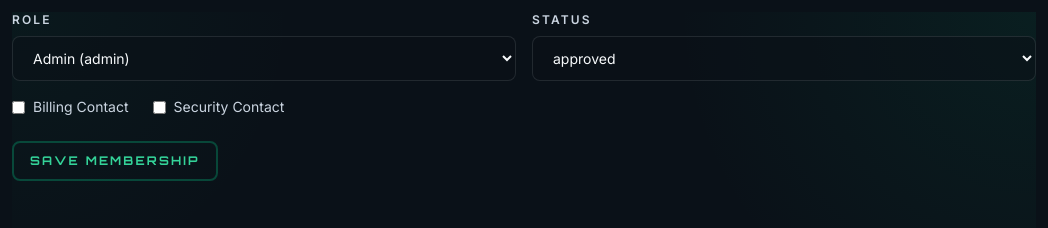
MembershipForm (USE-P2-010) › saves a non-destructive change without a dialog
What coordinates should you click on to do the following:
click the button "Save Membership"
I would click on:
 (115, 161)
Its box is [12,141,218,181].
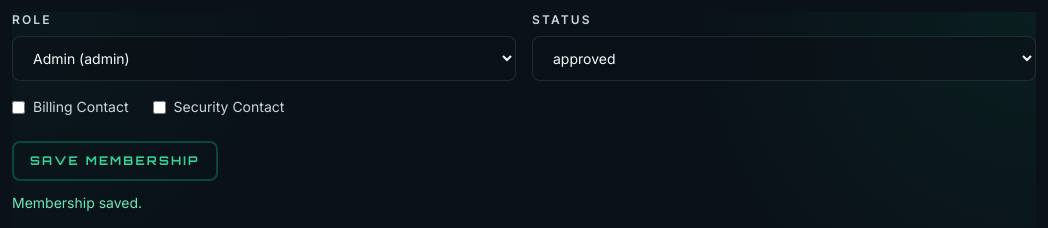
Expected: the message reads "Membership saved.", [12,194,142,211]
